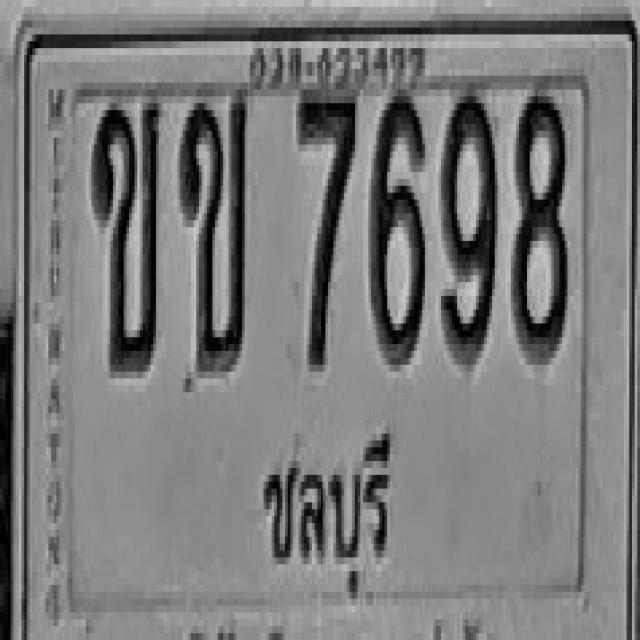11KhorKhai: (179, 90, 249, 372), (93, 96, 160, 372)
6: (369, 86, 424, 361)
7: (297, 83, 356, 364)
8: (511, 82, 567, 358)
9: (440, 83, 496, 364)
Chonburi: (260, 418, 399, 597)
